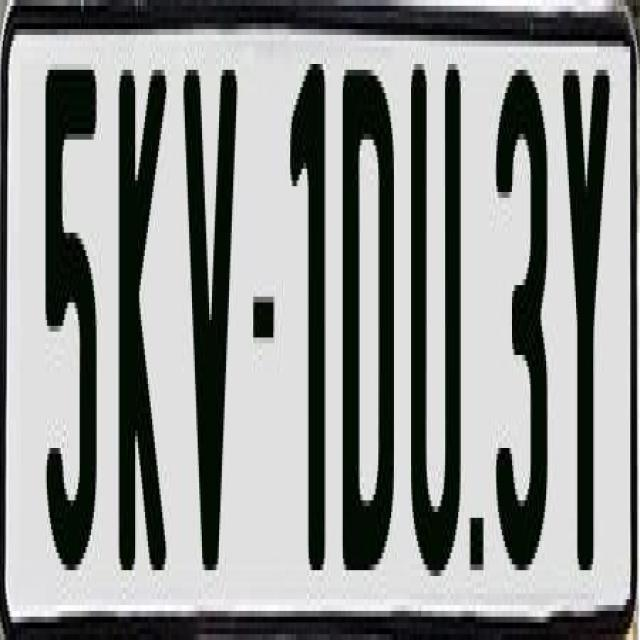1: (288, 58, 328, 564)
3: (496, 64, 554, 576)
5: (46, 58, 96, 559)
D: (343, 63, 394, 564)
K: (115, 70, 164, 600)
U: (411, 52, 461, 594)
V: (182, 58, 240, 564)
Y: (562, 70, 613, 600)
